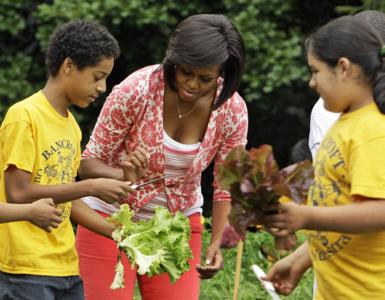person: (76, 13, 252, 299)
